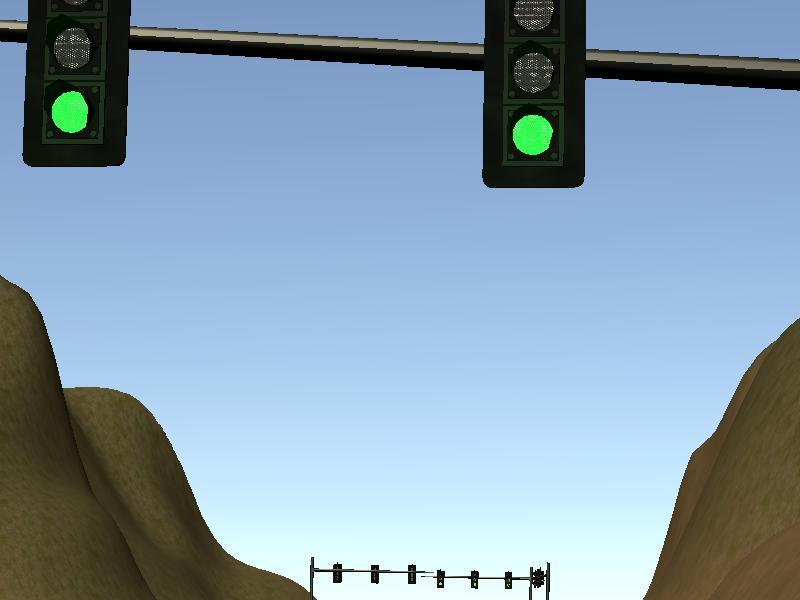Green: (488, 1, 582, 185), (28, 1, 122, 166)
